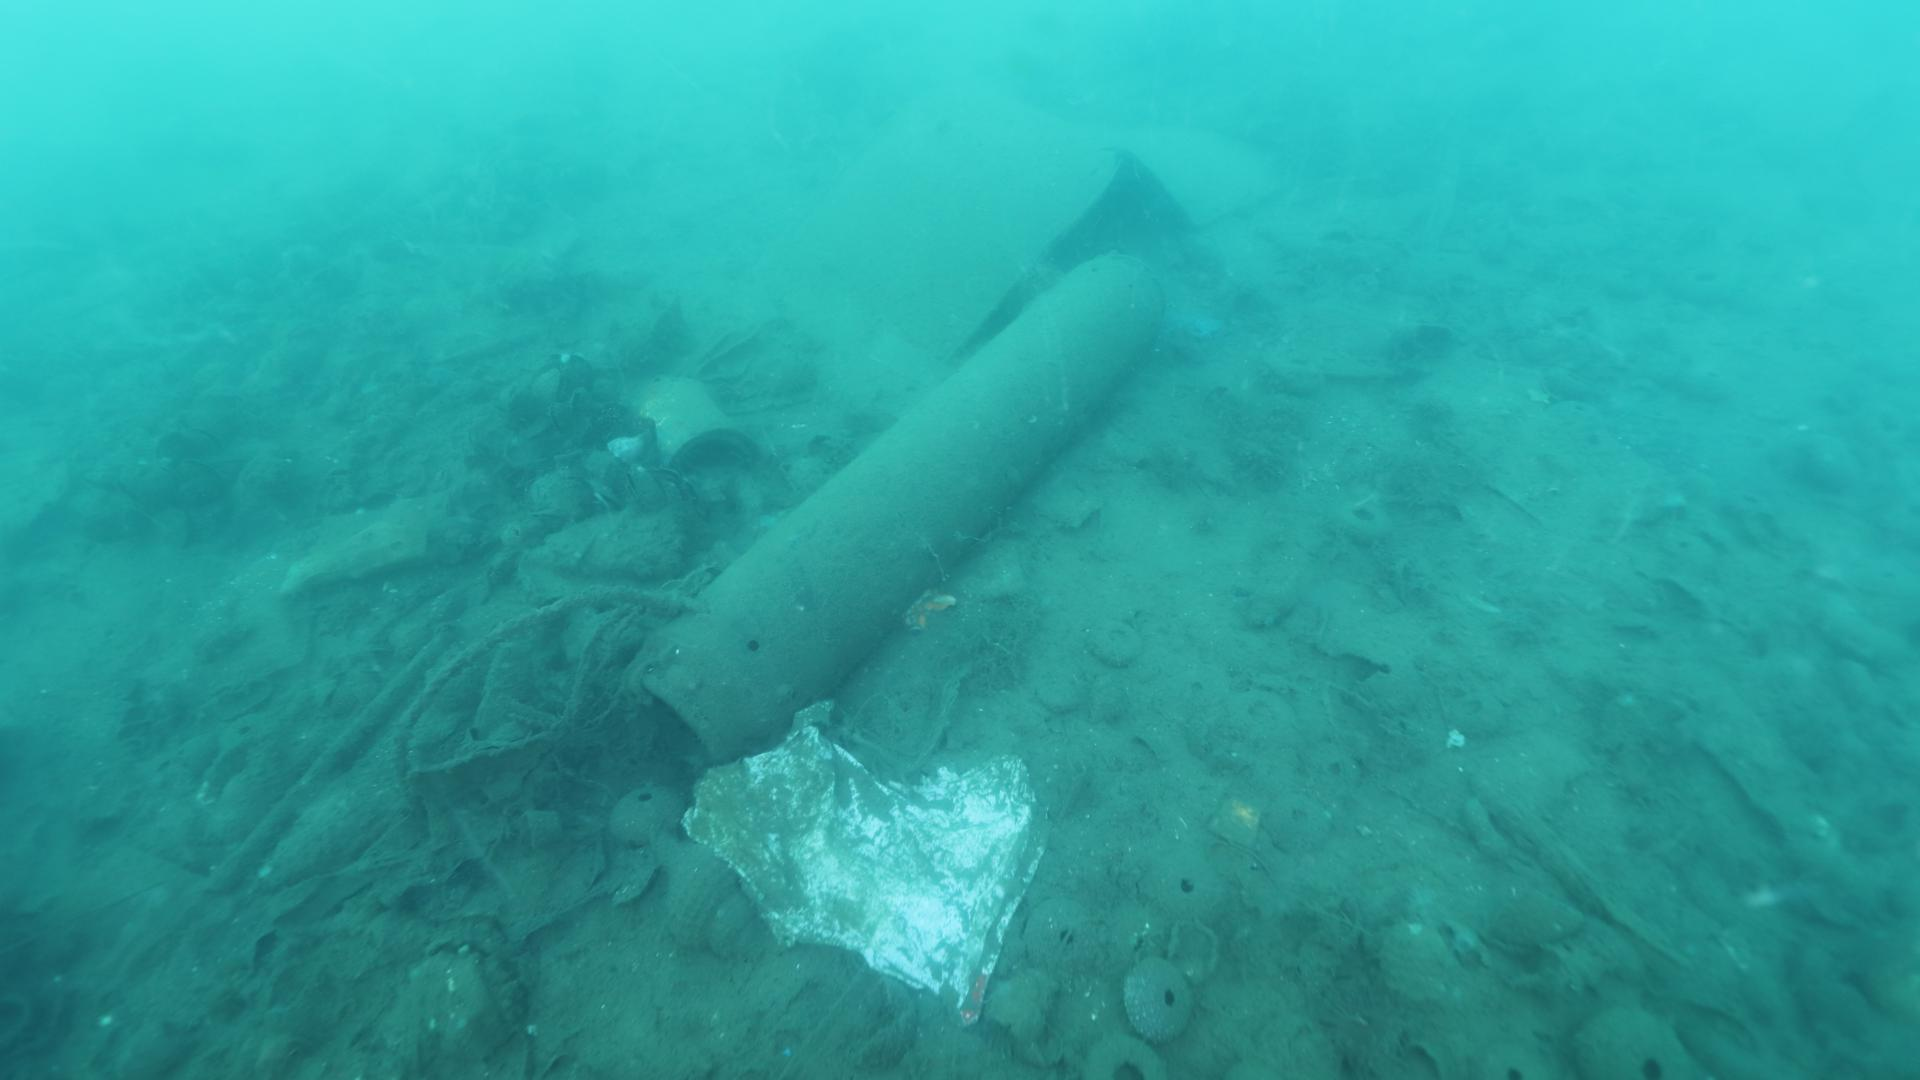eel fish trap: (630, 243, 1164, 766)
